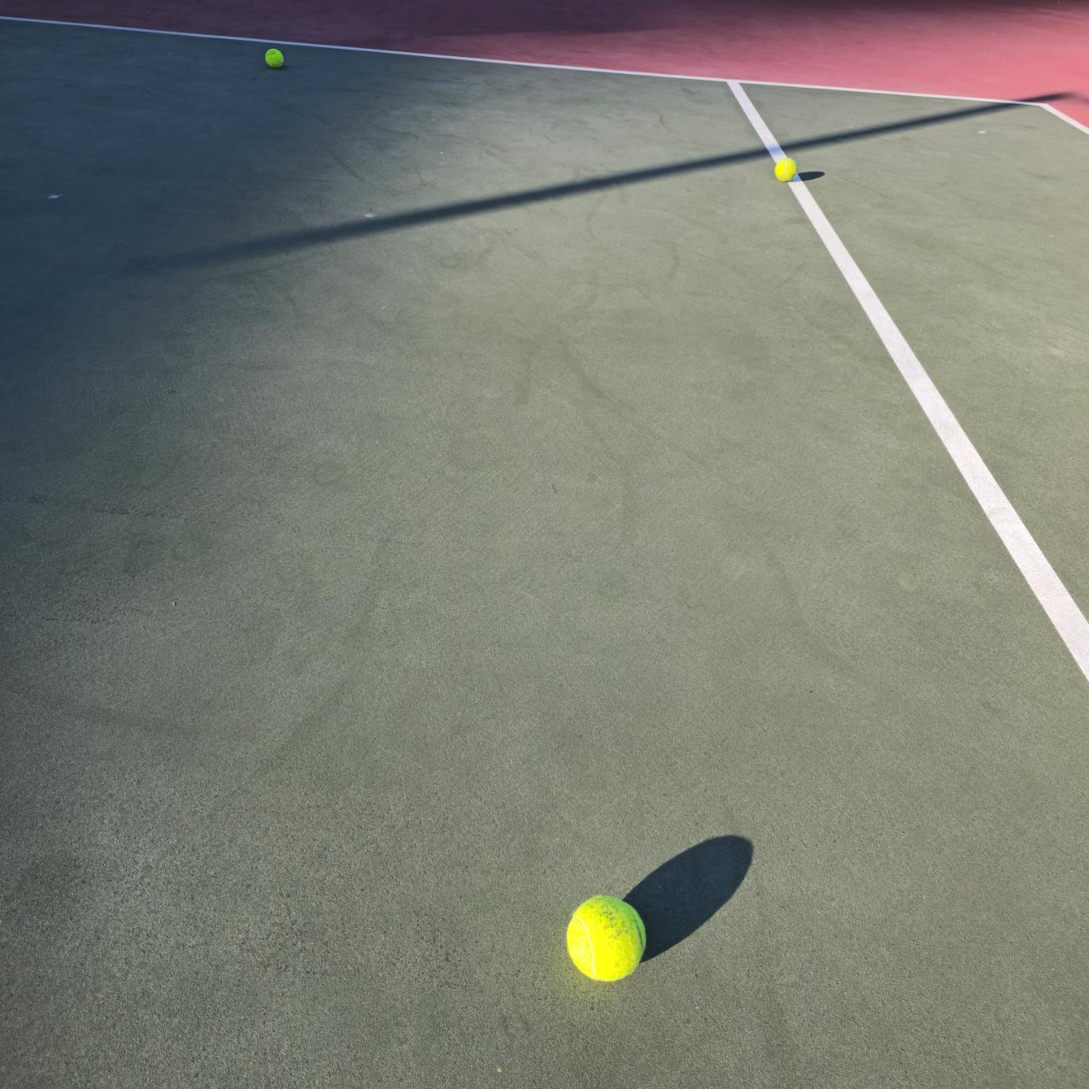tennis-ball: (565, 892, 649, 983), (774, 155, 799, 182), (265, 48, 284, 68)
